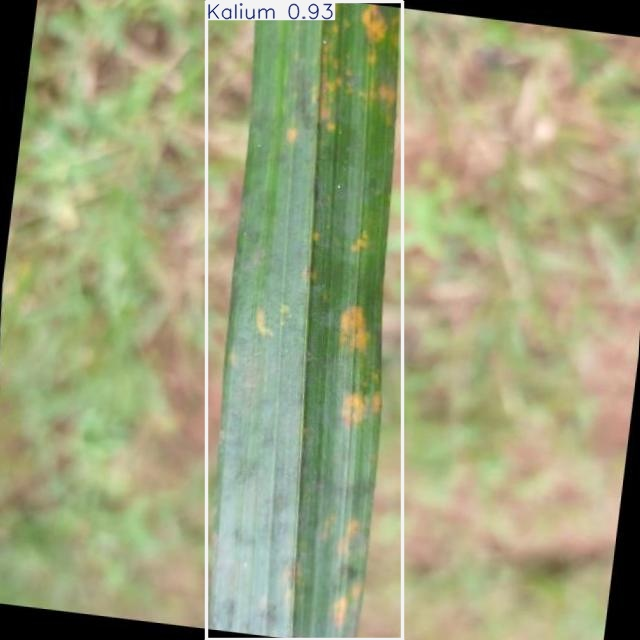Kalium: (207, 1, 403, 640)
